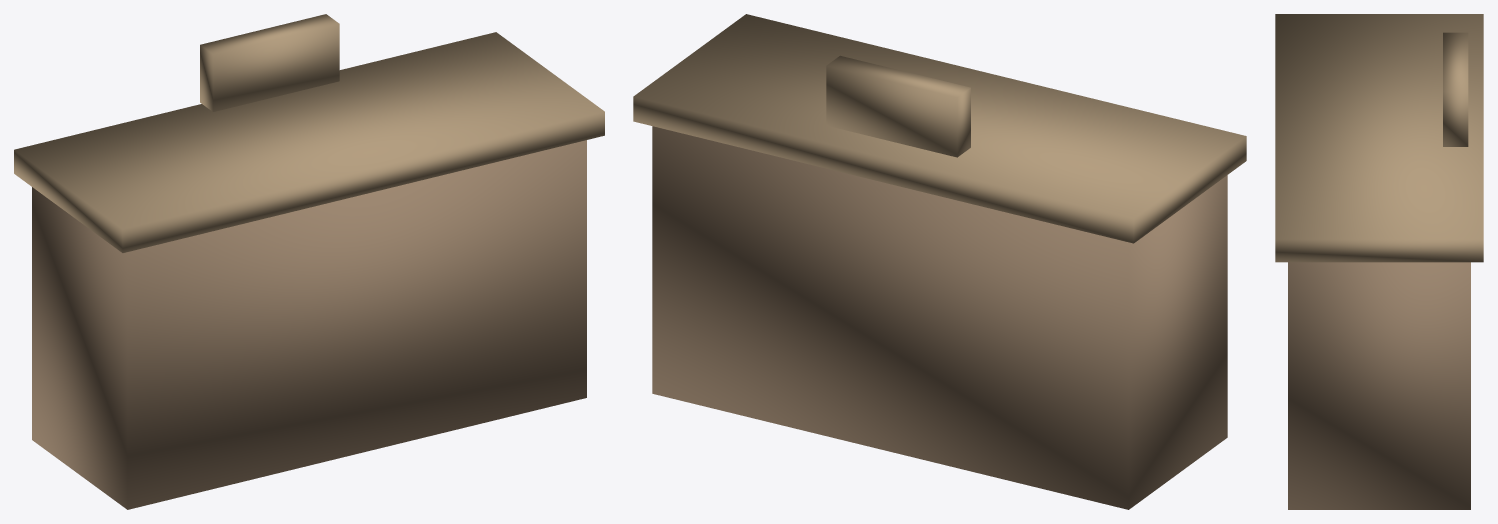
The model's file is judge_bench.glb.
The picture shows the model from 3 angles, left to right: view 1: azimuth 30°, elevation 25°; view 2: azimuth 150°, elevation 25°; view 3: azimuth 270°, elevation 25°; orthographic projection. The views are drawn at different scales.
Parts seen in each view (by area): view 1: world; view 2: world; view 3: world.
Part boxes in pixels (x1,y1,x2,y2): world: [14, 14, 604, 509]; world: [633, 14, 1246, 509]; world: [1275, 14, 1483, 509].
Size of the model in its own units: 2.1 by 1.48 by 0.82.
